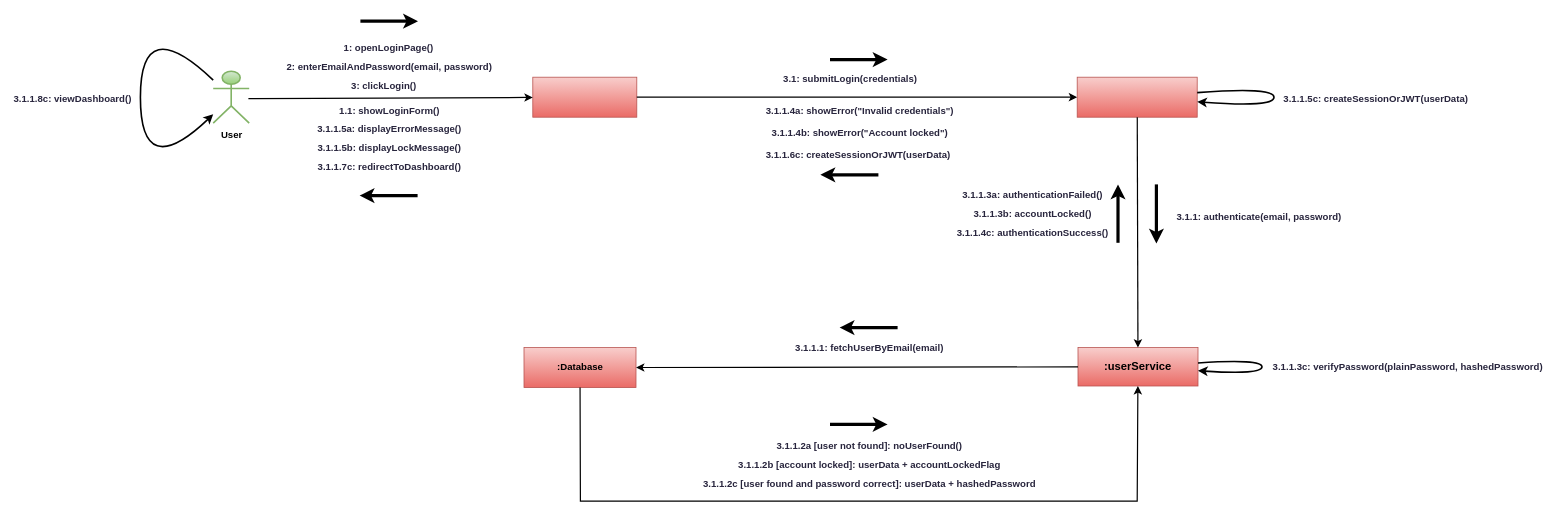
The diagram is 1556 pixels wide and 522 high, and some of its shapes have lost their labels. The shapes that lost their labels are listed below. From the top down, each one's centre as x and y in pixels, then its label:
[584,96]: :loginPage
[1136,96]: : AuthController
